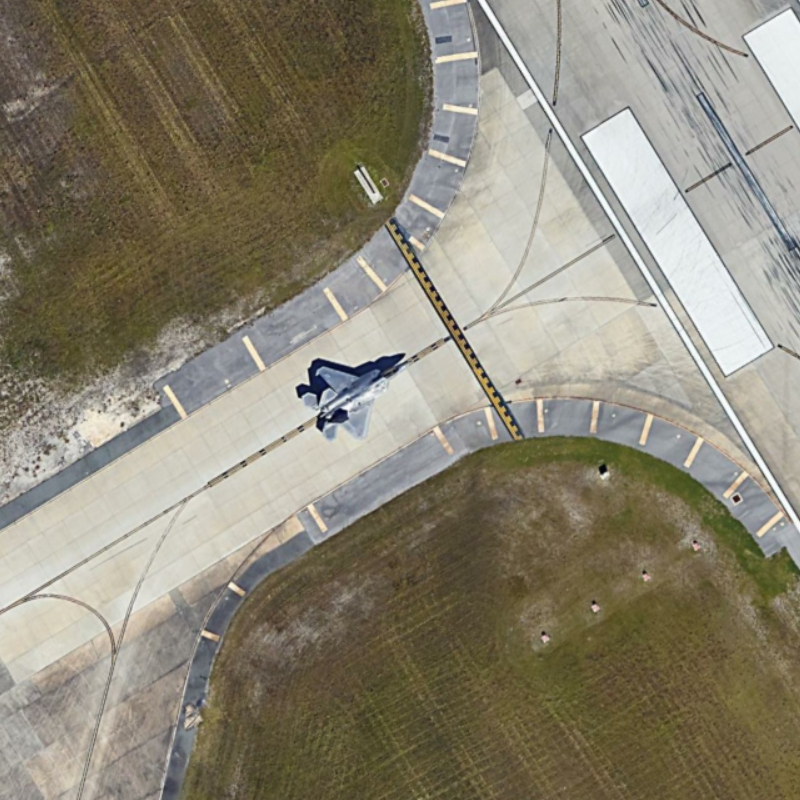A15: (290, 350, 415, 444)
